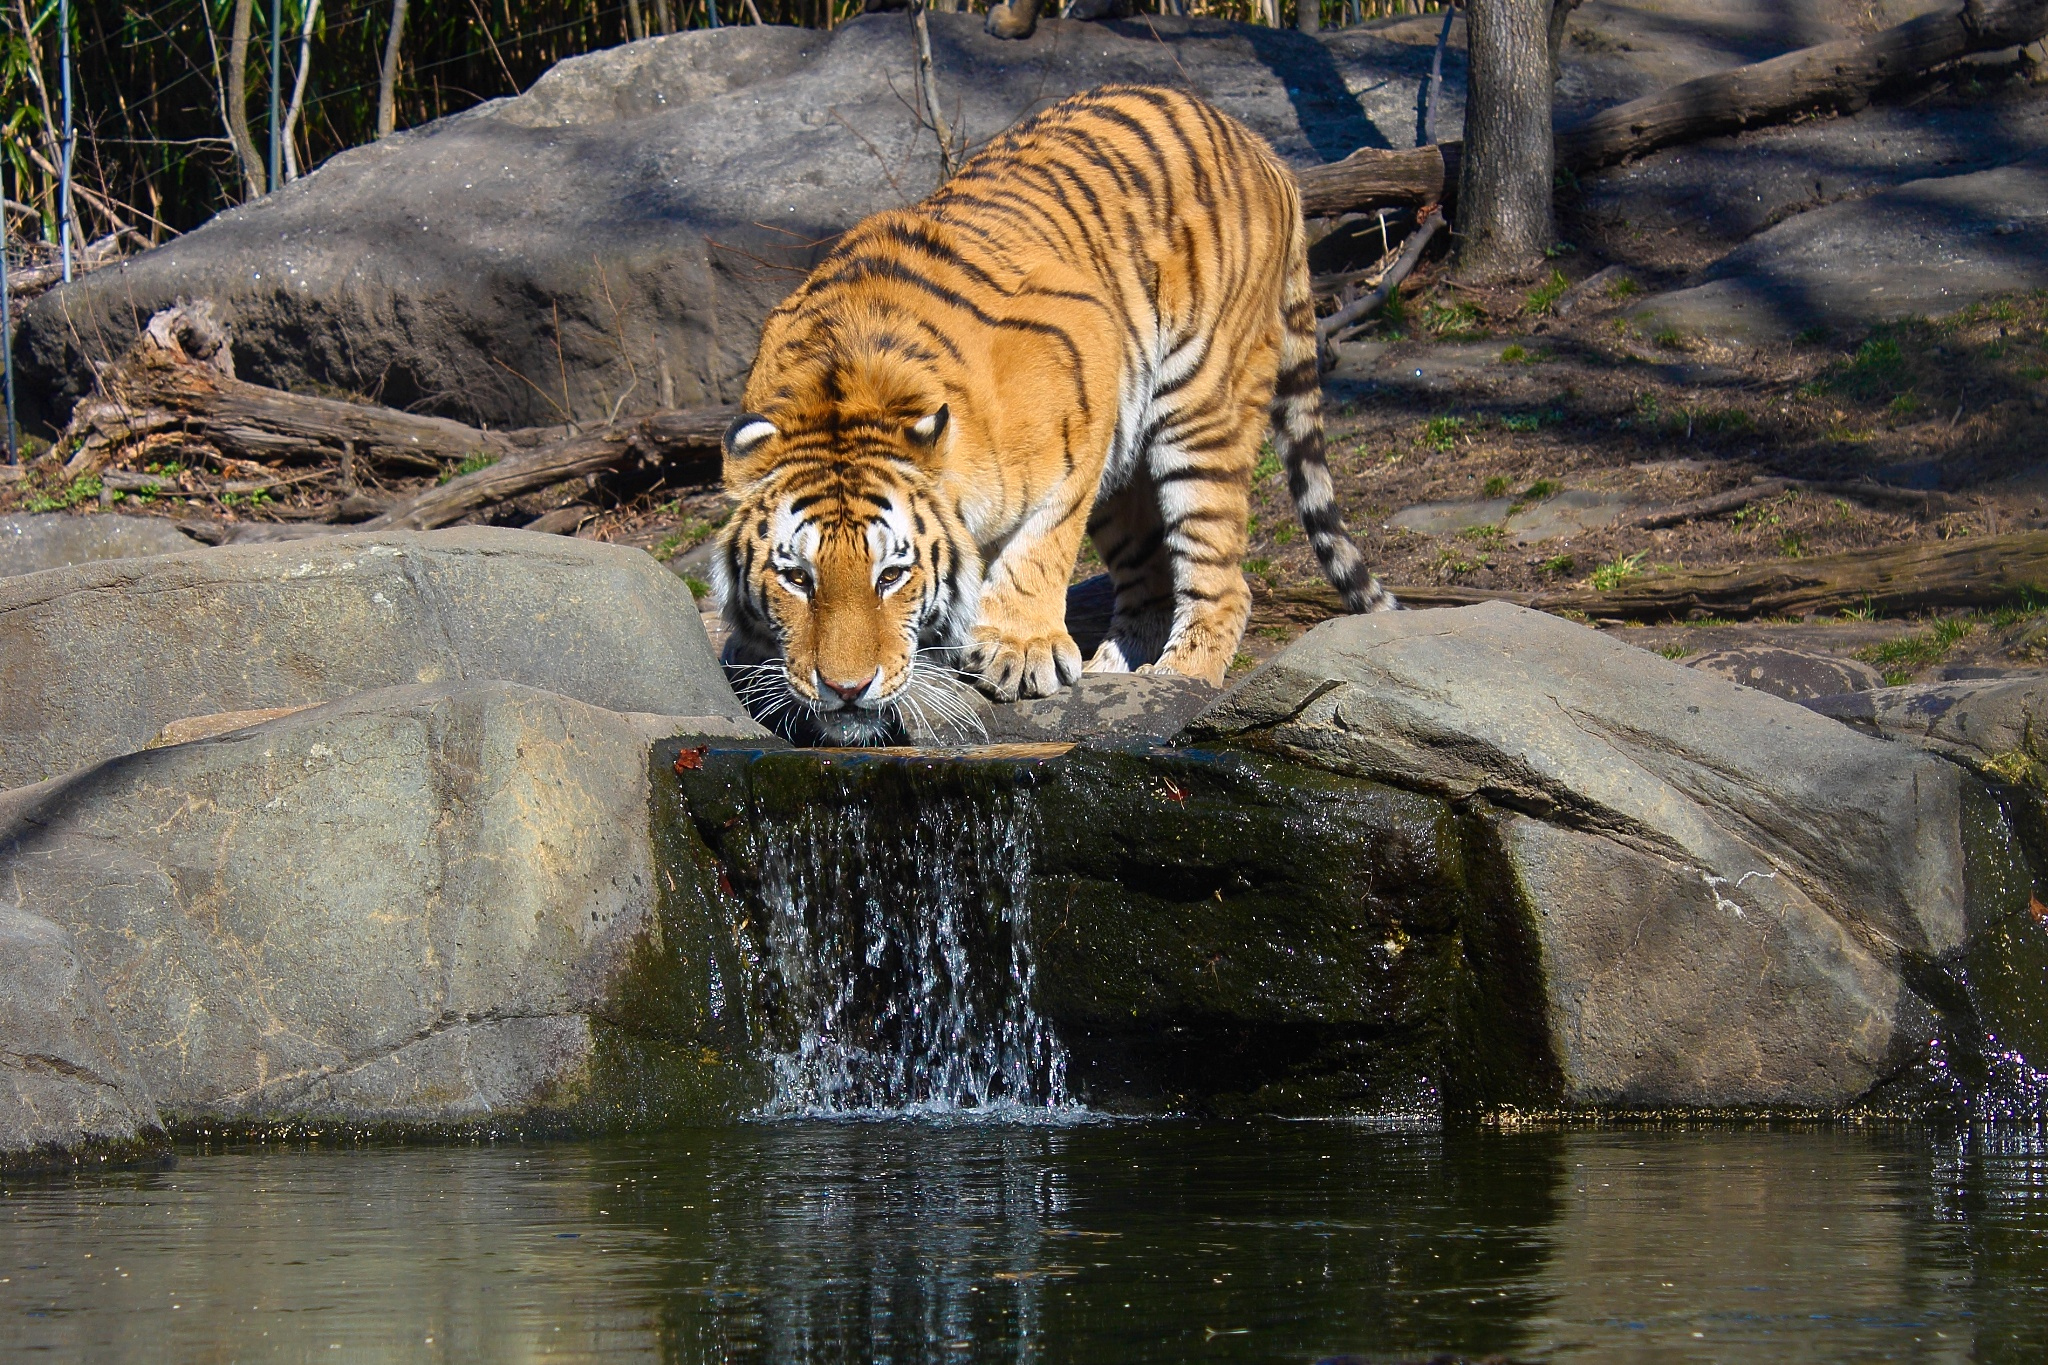tiger: (734, 85, 1386, 768)
